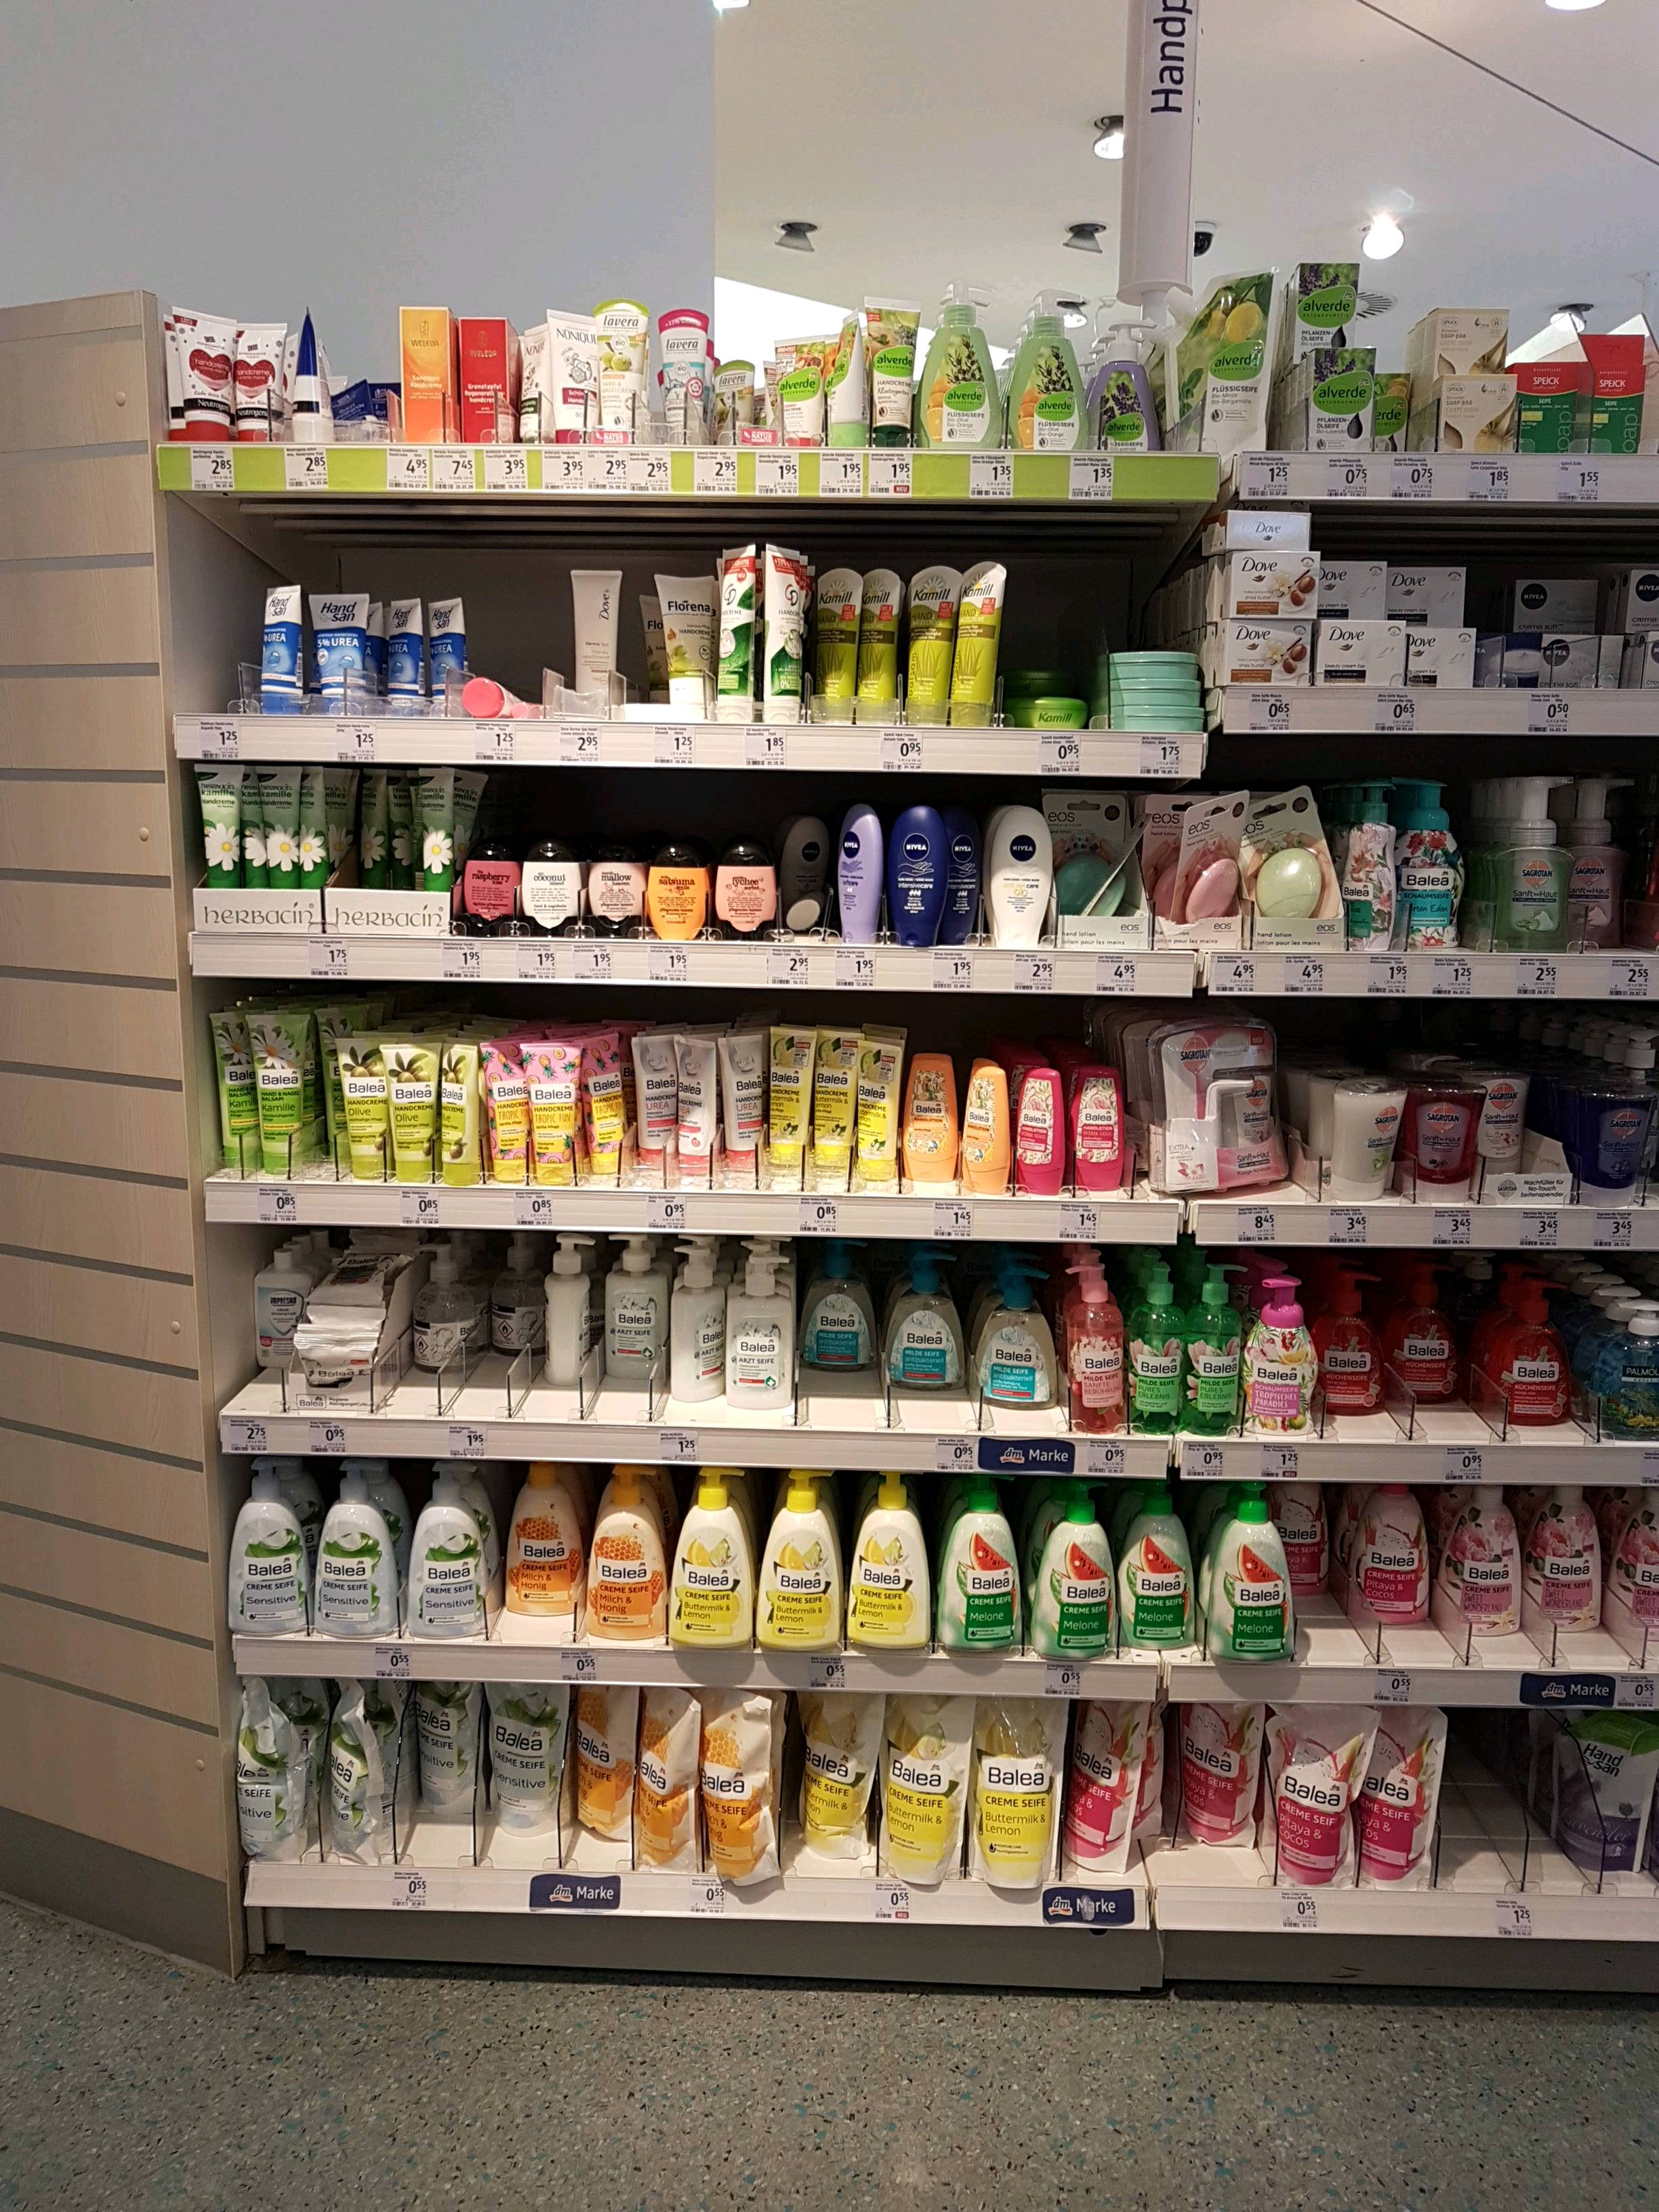Misplacement: (802, 1249, 1070, 1435)
